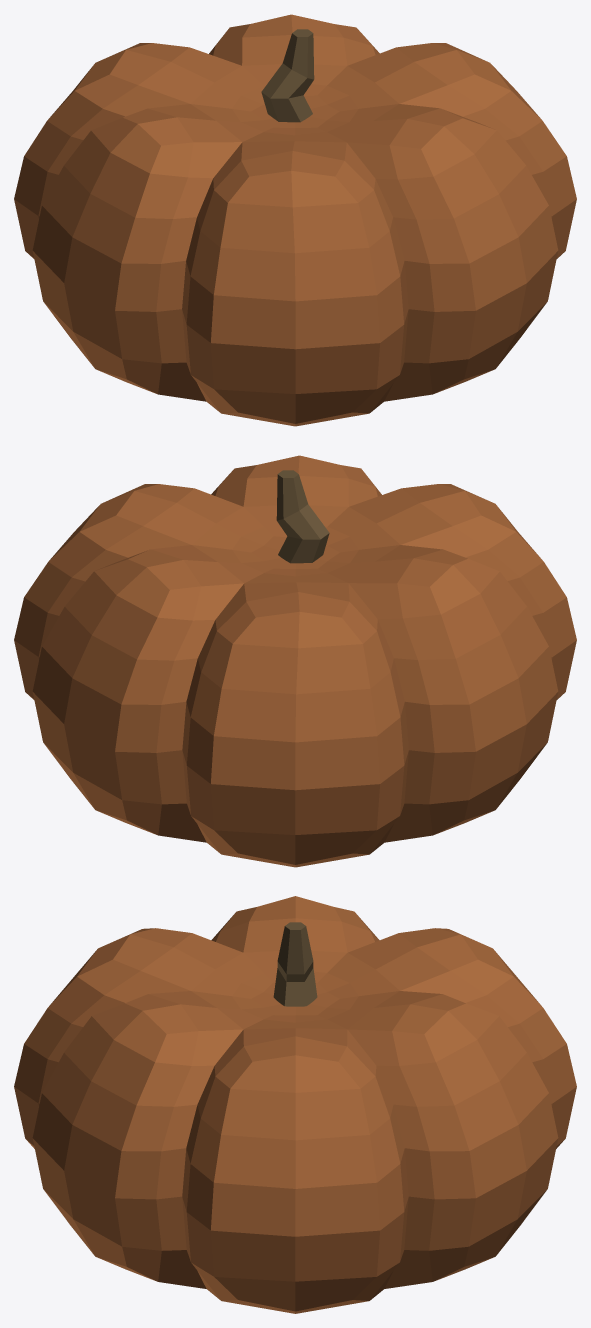
File: Pumpkin.glb
3 renders of one model, top to bottom at view 1: azimuth 30°, elevation 25°; view 2: azimuth 150°, elevation 25°; view 3: azimuth 270°, elevation 25°, orthographic.
Visible parts, largest first — view 1: Pumpkin; view 2: Pumpkin; view 3: Pumpkin.
Boxes of the visible parts, x1,y1,x2,y2 form: Pumpkin: (14, 14, 576, 426); Pumpkin: (14, 455, 576, 867); Pumpkin: (14, 896, 576, 1313).
Size of the model in its own units: 1.5 by 0.9309 by 1.51.
